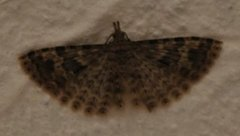Alucitidae: (16, 18, 228, 121)
moth: (14, 16, 226, 119)
